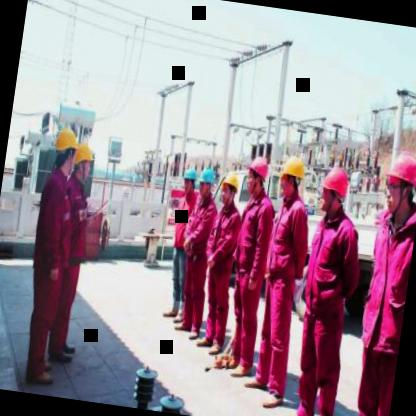helmet: (377, 144, 416, 221), (315, 162, 352, 219), (274, 150, 308, 205), (69, 138, 99, 190), (50, 124, 80, 172), (241, 153, 270, 201), (217, 168, 240, 205), (195, 161, 218, 198), (180, 166, 198, 202)
